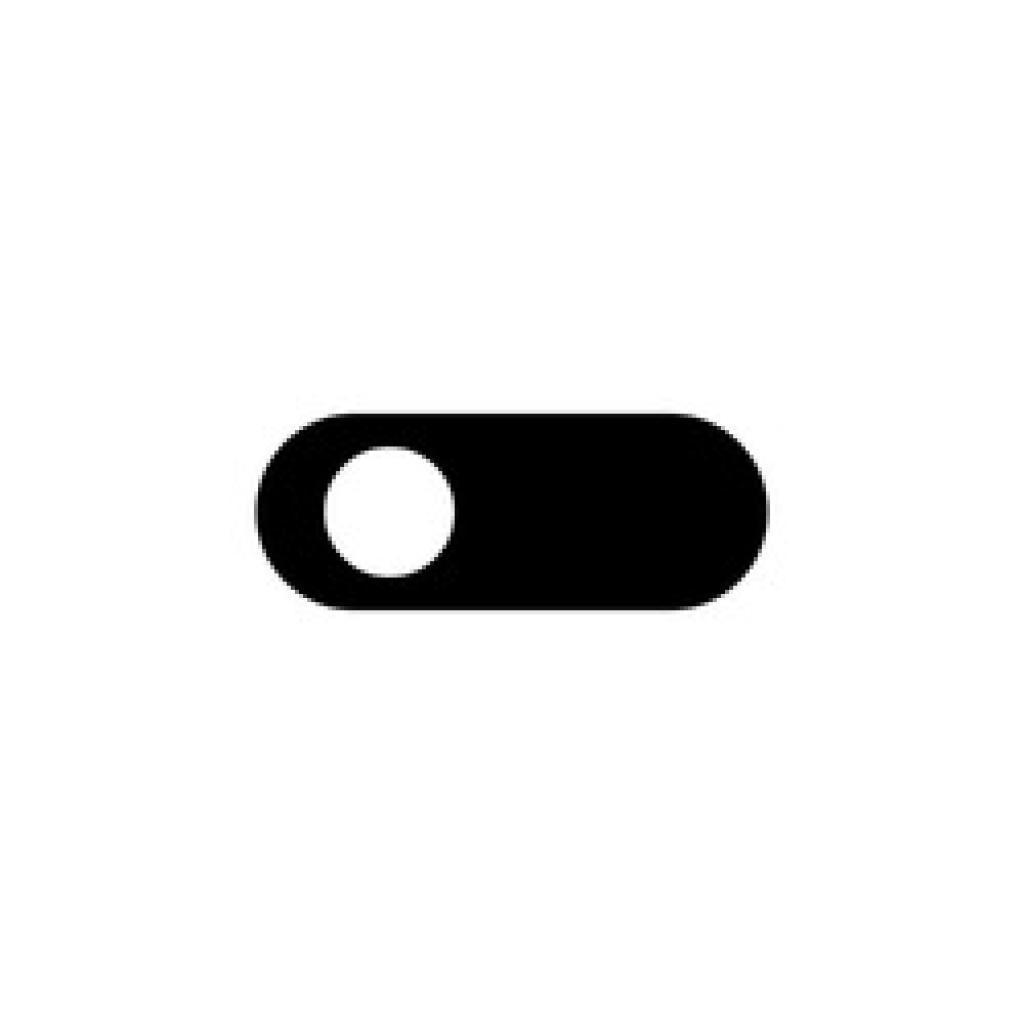switch: (252, 413, 776, 614)
